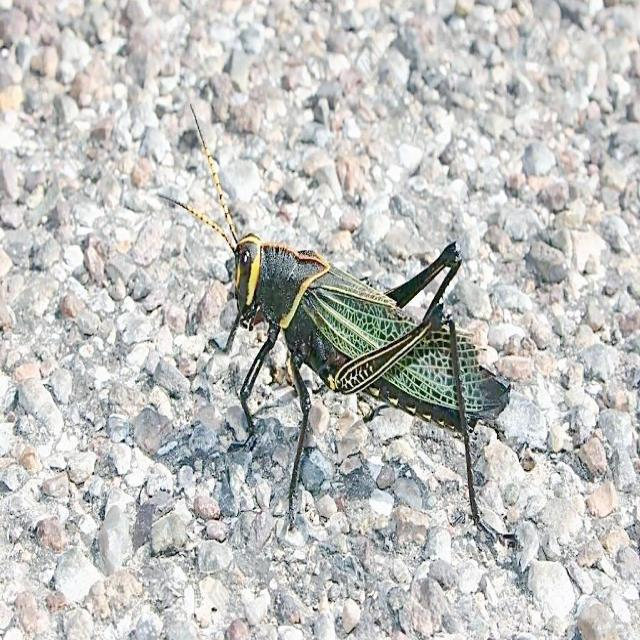ZhaMeng: (193, 157, 502, 503)
